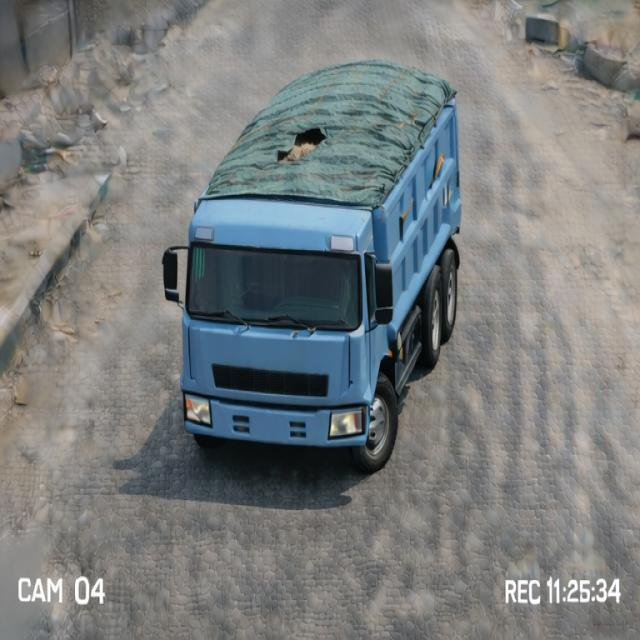trailer: (193, 61, 459, 198)
truck: (166, 46, 481, 463)
